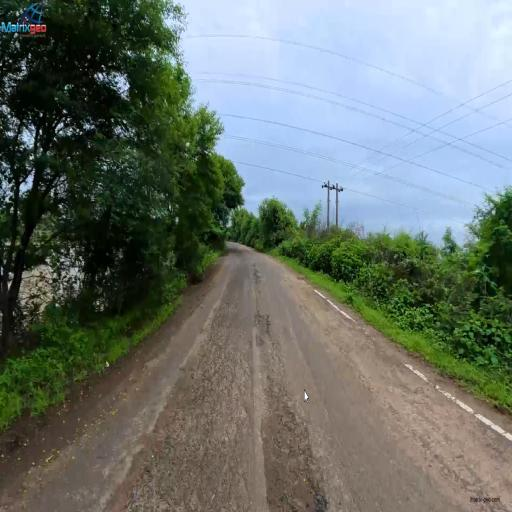ravelling: (208, 348, 326, 479)
